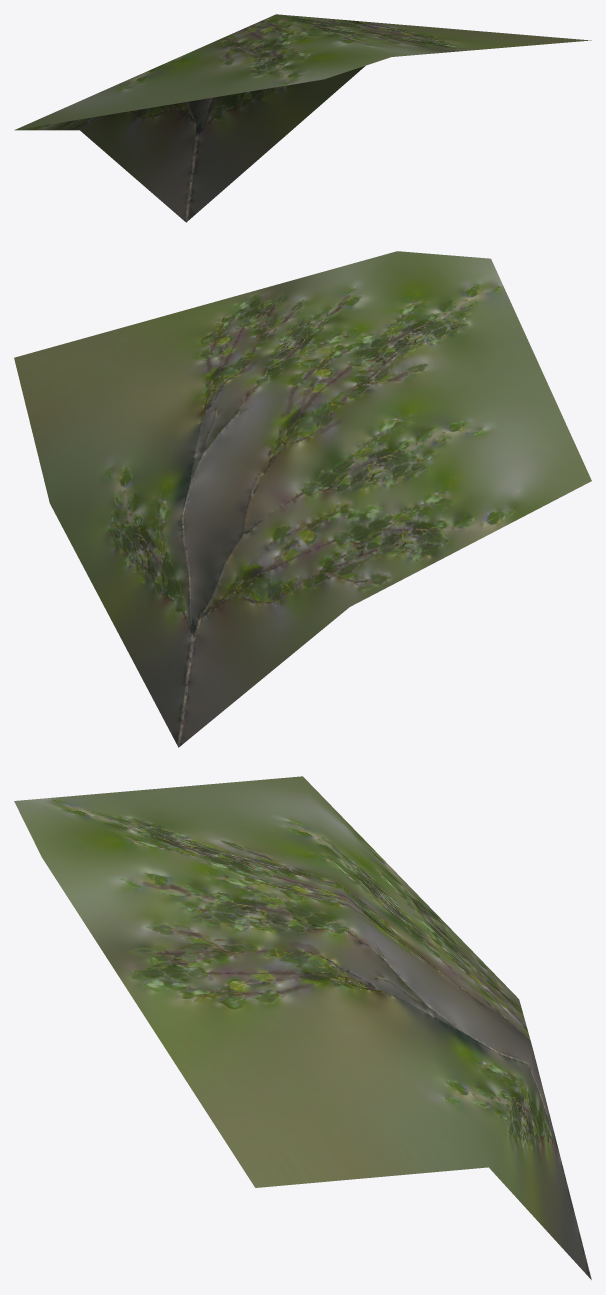
The model's file is silverbirchBranchV1Upright.fbx.
The picture shows the model from 3 angles, top to bottom: view 1: azimuth 30°, elevation 25°; view 2: azimuth 150°, elevation 25°; view 3: azimuth 270°, elevation 25°; orthographic projection. The views are drawn at different scales.
Parts seen in each view (by area): view 1: Polygon; view 2: Polygon; view 3: Polygon.
Part boxes in pixels (x1=…): Polygon: x1=14, y1=14, x2=591, y2=222; Polygon: x1=14, y1=251, x2=591, y2=747; Polygon: x1=14, y1=776, x2=591, y2=1279.
Bounding box in the file's own units: 28.28 × 15.44 × 18.86.
